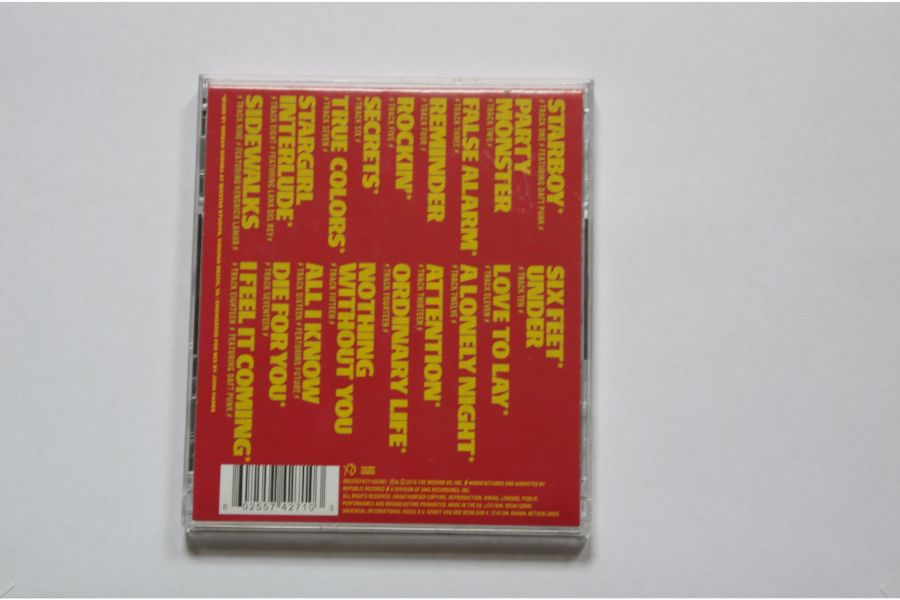album: (181, 66, 594, 543)
